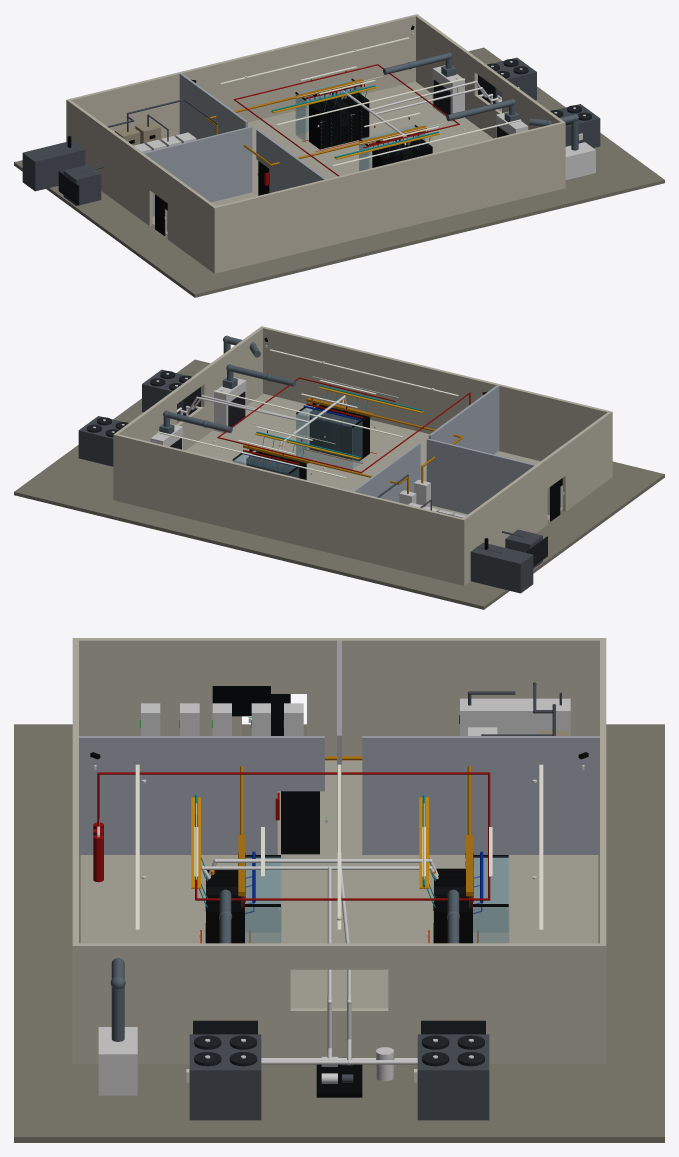
Rendered from hyperscale_hall.obj.
3 renders of one model, top to bottom at view 1: azimuth 30°, elevation 25°; view 2: azimuth 150°, elevation 25°; view 3: azimuth 270°, elevation 25°, orthographic. The views are drawn at different scales.
Parts seen in each view (by area): view 1: wall_north, wall_south, slab, slab_hall_finish, divider_elec_ctrl, wall_west_a, wall_west_b, wall_east_a, partition_a, PWR_generator, partition_b, wall_east_b (+14 smaller); view 2: wall_south, wall_north, slab, slab_hall_finish, divider_elec_ctrl, wall_west_a, wall_west_b, partition_b, wall_east_b, PWR_generator, cell02_containment_back, partition_a (+11 smaller); view 3: slab, slab_hall_finish, partition_a, wall_west_a, wall_east_a, partition_b, wall_east_b, wall_west_b, CHW_drycooler_0, CHW_drycooler_1, wall_east_c, wall_west_door_top (+26 smaller).
Part boxes in pixels (x1,y1,x2,y2): wall_north: (213, 122, 565, 273); wall_south: (66, 14, 418, 141); slab: (14, 47, 664, 297); slab_hall_finish: (152, 81, 492, 235); divider_elec_ctrl: (143, 126, 252, 216); wall_west_a: (68, 100, 152, 226); wall_west_b: (167, 173, 215, 272); wall_east_a: (416, 15, 477, 124); partition_a: (179, 73, 247, 139); PWR_generator: (22, 140, 85, 191); partition_b: (269, 139, 326, 192); wall_east_b: (502, 78, 564, 129); wall_south: (113, 433, 465, 585); wall_north: (260, 326, 612, 478); slab: (14, 359, 664, 609); slab_hall_finish: (186, 393, 562, 520); divider_elec_ctrl: (426, 438, 535, 514); wall_west_a: (463, 458, 547, 584); wall_west_b: (562, 412, 610, 511); partition_b: (442, 385, 499, 454); wall_east_b: (201, 327, 262, 436); PWR_generator: (470, 542, 533, 593); cell02_containment_back: (296, 414, 352, 469); partition_a: (352, 443, 420, 502); slab: (14, 724, 664, 1142); slab_hall_finish: (80, 760, 598, 1008); partition_a: (362, 736, 599, 855); wall_west_a: (307, 638, 599, 756); wall_east_a: (388, 943, 602, 1063); partition_b: (79, 736, 277, 855); wall_east_b: (76, 943, 290, 1063); wall_west_b: (79, 638, 241, 735); CHW_drycooler_0: (417, 1034, 489, 1120); CHW_drycooler_1: (189, 1034, 261, 1120); wall_east_c: (287, 1008, 391, 1057); wall_west_door_top: (242, 638, 306, 693).
Size of the model in its own units: 30.9 by 4.3 by 20.
